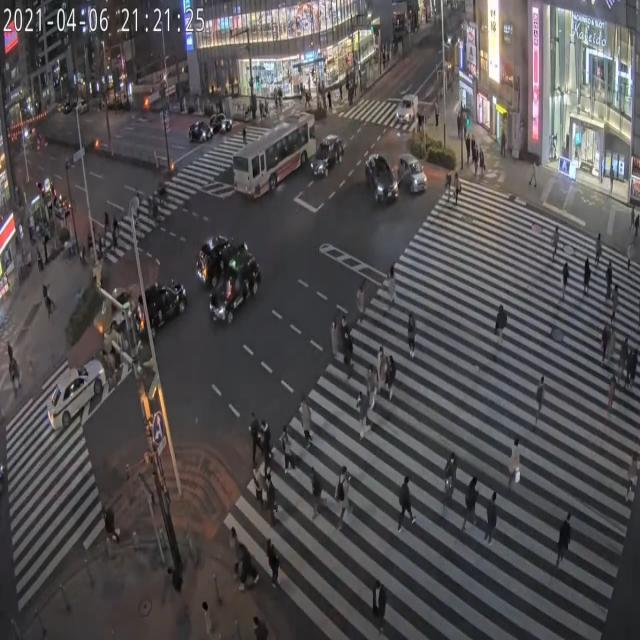bicycle: (443, 448, 458, 514)
humans: (488, 288, 514, 366), (258, 524, 284, 600), (332, 462, 359, 530), (292, 382, 316, 458), (558, 500, 577, 594), (276, 419, 300, 492), (228, 520, 253, 584), (507, 428, 528, 498), (305, 470, 327, 530), (236, 538, 257, 600), (199, 590, 225, 640), (532, 364, 548, 444), (393, 471, 416, 526), (387, 260, 407, 322), (368, 572, 387, 636), (352, 390, 371, 453), (361, 364, 380, 426), (402, 312, 423, 368), (260, 415, 276, 478), (246, 398, 260, 470), (604, 364, 620, 426), (251, 461, 269, 516), (621, 455, 640, 507), (263, 471, 282, 522), (484, 487, 499, 549), (462, 475, 478, 532), (371, 340, 386, 400), (247, 612, 277, 640), (326, 315, 341, 368), (356, 284, 372, 333), (384, 351, 398, 404), (338, 313, 350, 370), (559, 254, 574, 299), (593, 224, 606, 272), (441, 168, 455, 210), (602, 258, 616, 297), (452, 169, 465, 208), (583, 254, 594, 300), (619, 332, 629, 380), (548, 227, 562, 260), (610, 280, 621, 320), (608, 321, 618, 362), (344, 334, 354, 372), (600, 315, 608, 362), (628, 337, 634, 391), (633, 346, 640, 390)
